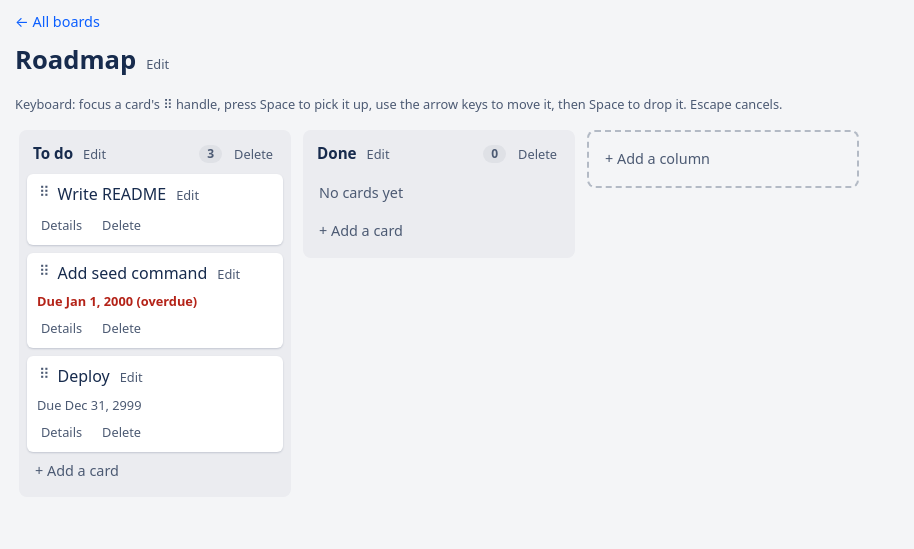
BoardPage cards › renames a card and saves it
Click the button with aria-label "Edit title of Write README": (188, 196) 172,184 -> 203,208
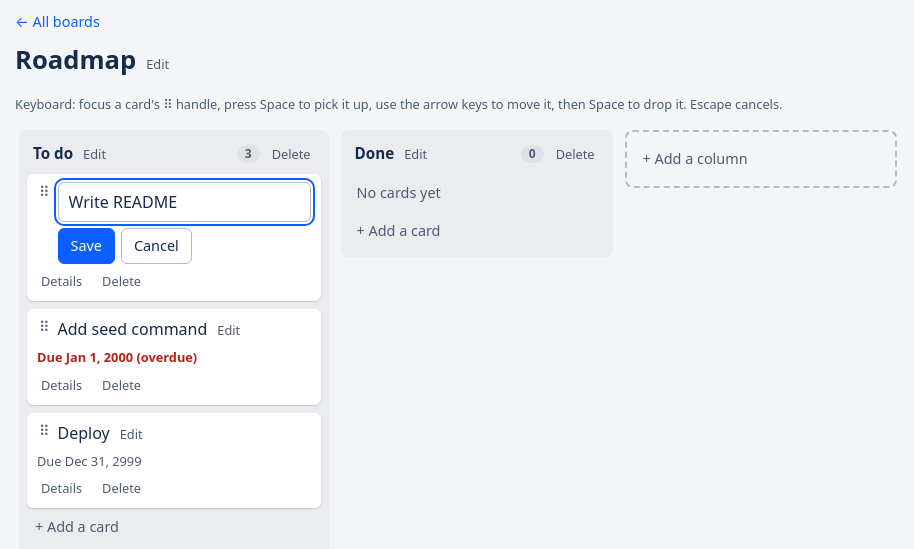
Replace the text in the field named "Edit title of Write README" with "Write the README": (184, 202) 58,182 -> 310,222
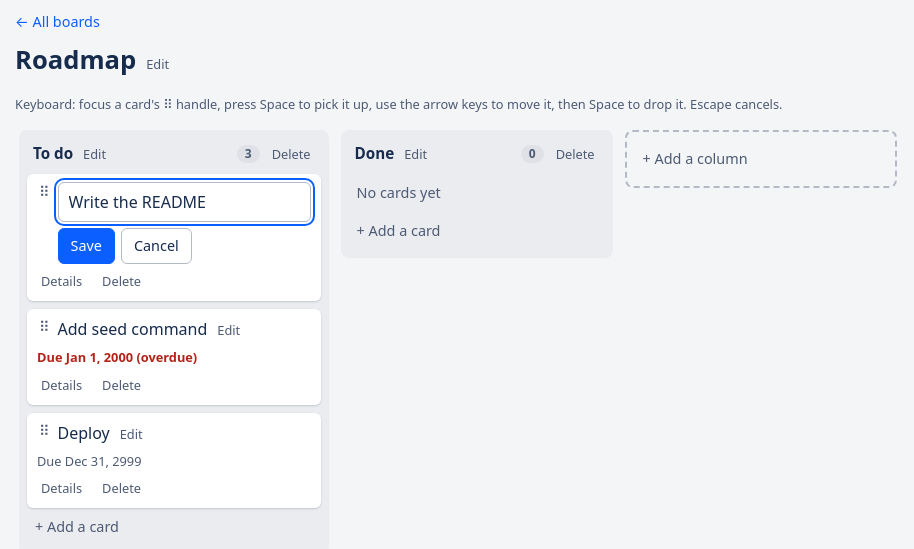
Click the button "Save": (86, 246) 58,228 -> 115,264
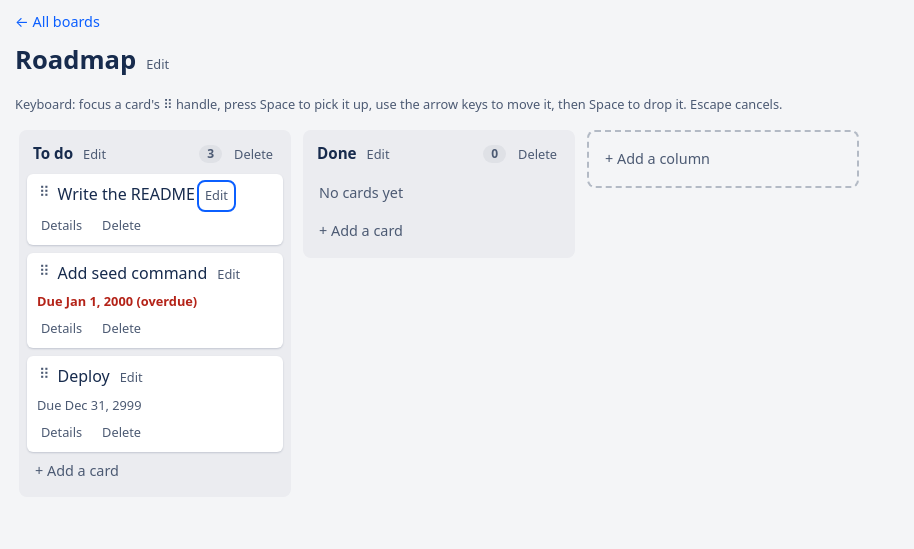
Result: the text "Write the README" is shown at 58,182 -> 195,206
